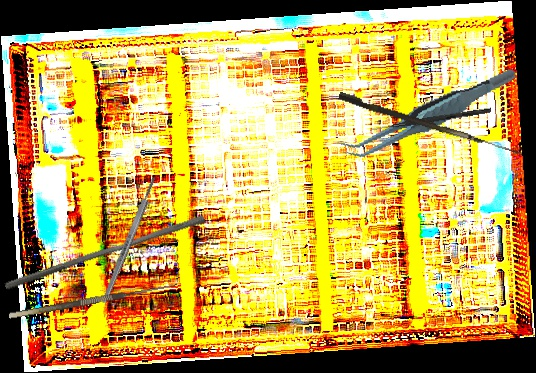Hook Surgical: (337, 91, 525, 156), (6, 274, 179, 319), (369, 106, 492, 134)
Pusher: (4, 207, 206, 299)
Scalpel Handle: (99, 175, 159, 305)
Tissue Forceps: (333, 67, 526, 162)
